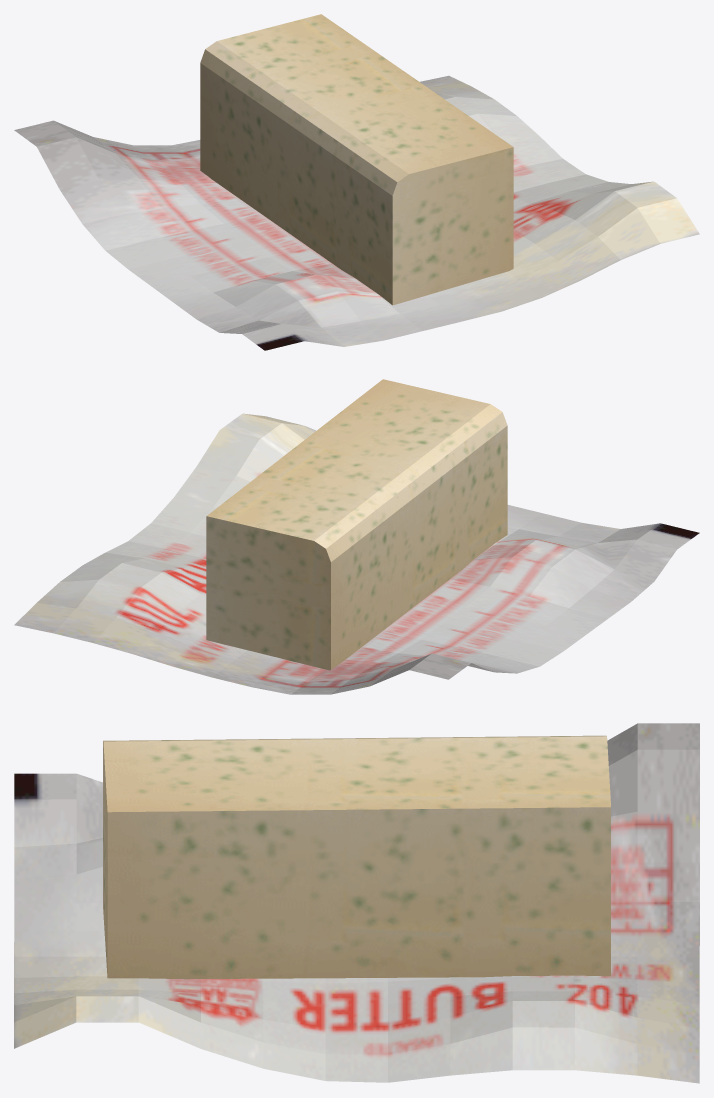
The model's file is CannabisButter.fbx.
The picture shows the model from 3 angles, top to bottom: view 1: azimuth 30°, elevation 25°; view 2: azimuth 150°, elevation 25°; view 3: azimuth 270°, elevation 25°; orthographic projection. The views are drawn at different scales.
Visible parts, largest first — view 1: Cube; view 2: Cube; view 3: Cube.
Part boxes in pixels (x1,y1,x2,y2): Cube: [14, 14, 699, 350]; Cube: [14, 379, 699, 694]; Cube: [14, 723, 699, 1083].
Bounding box in the file's own units: 0.202 × 0.057 × 0.202.
